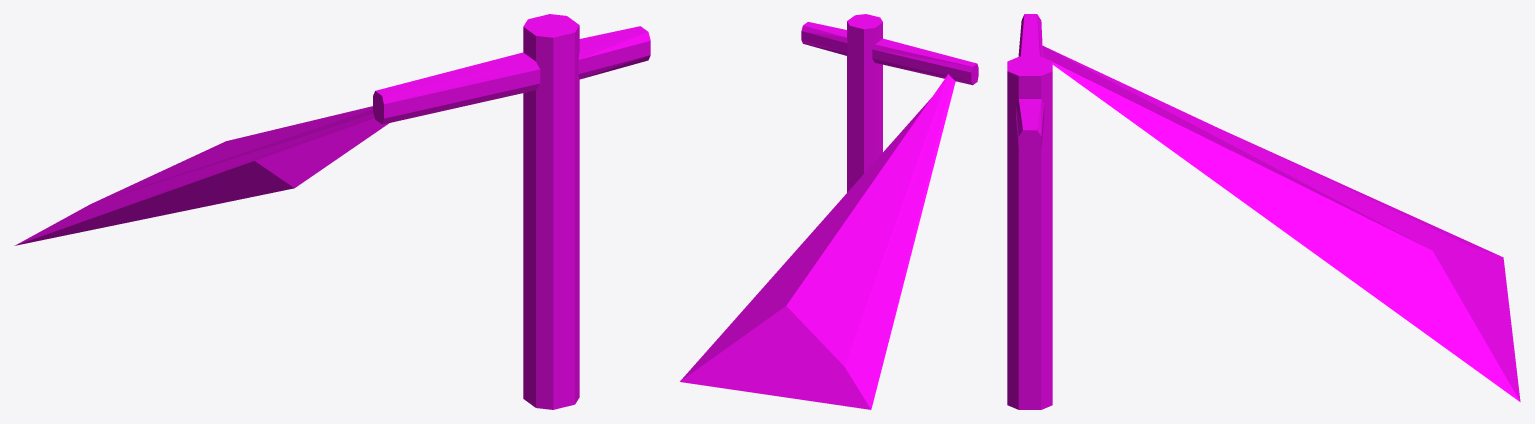
Rendered from trawlernet-l.obj.
3 views of the same model, side by side, from view 1: azimuth 30°, elevation 25°; view 2: azimuth 150°, elevation 25°; view 3: azimuth 270°, elevation 25° (orthographic). The views are drawn at different scales.
Parts seen in each view (by area): view 1: trawlernet-l_back; view 2: trawlernet-l_back; view 3: trawlernet-l_back.
Part boxes in pixels (x1=…): trawlernet-l_back: x1=14, y1=14, x2=650, y2=409; trawlernet-l_back: x1=680, y1=14, x2=978, y2=409; trawlernet-l_back: x1=1007, y1=14, x2=1520, y2=409.
Bounding box in the file's own units: 2.68 × 2.6 × 3.62.
